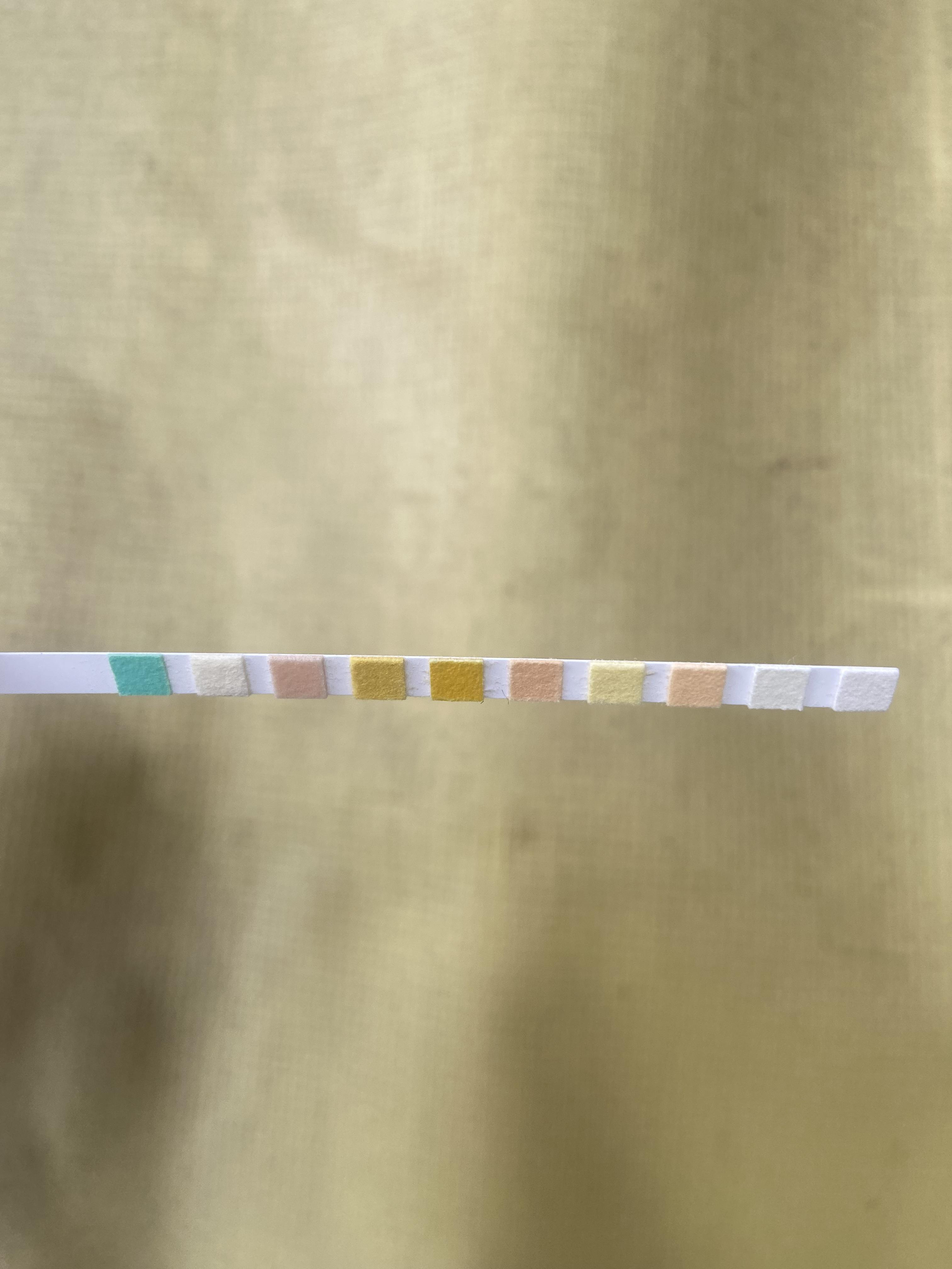Bilirubin: (202, 660, 240, 695)
Blood: (432, 663, 482, 701)
Glucose: (122, 658, 161, 695)
Ketone: (279, 662, 321, 697)
Leukocytes: (847, 673, 889, 711)
Nitrite: (758, 669, 801, 709)
Protein: (591, 669, 641, 703)
SpGravity: (355, 663, 402, 698)
Urobilinogen: (674, 670, 719, 705)
pH: (513, 664, 560, 700)
strip: (1, 654, 897, 711)
